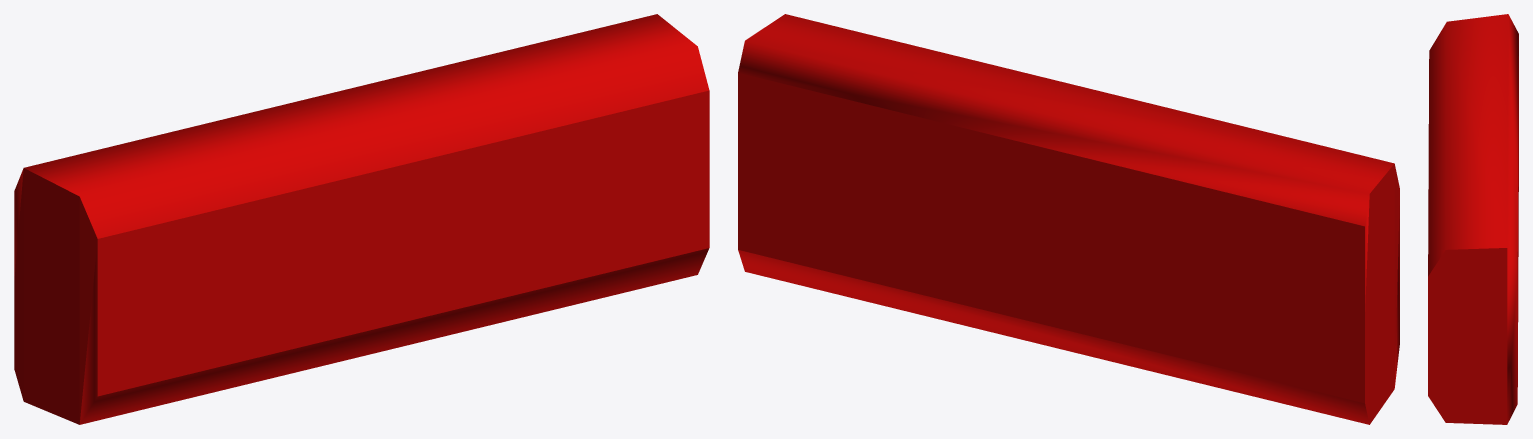
The model's file is blaster_magazin_collision.dae.
3 views of the same model, side by side, from view 1: azimuth 30°, elevation 25°; view 2: azimuth 150°, elevation 25°; view 3: azimuth 270°, elevation 25° (orthographic). The views are drawn at different scales.
Visible parts, largest first — view 1: blaster_magazin_collision; view 2: blaster_magazin_collision; view 3: blaster_magazin_collision.
Part boxes in pixels (bbox=[...]): blaster_magazin_collision: bbox=[14, 14, 709, 424]; blaster_magazin_collision: bbox=[738, 14, 1399, 424]; blaster_magazin_collision: bbox=[1428, 14, 1518, 424].
Bounding box in the file's own units: 0.1589 × 0.0559 × 0.026.
